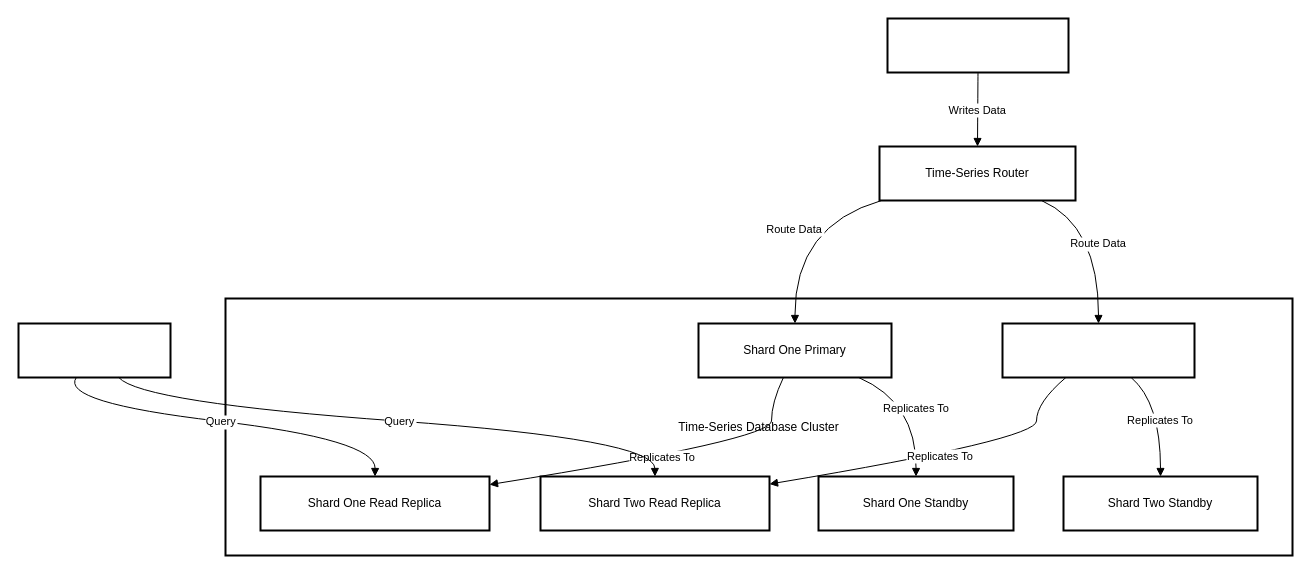
Image size: 1310x573. Some labels were removed from this diagram. The centre of each missing label's shape, as x and y in pixels:
"Sensor Input App" belongs at point 977,45.
"Shard Two Primary" belongs at point 1098,350.
"Worker Fleet" belongs at point 94,350.
